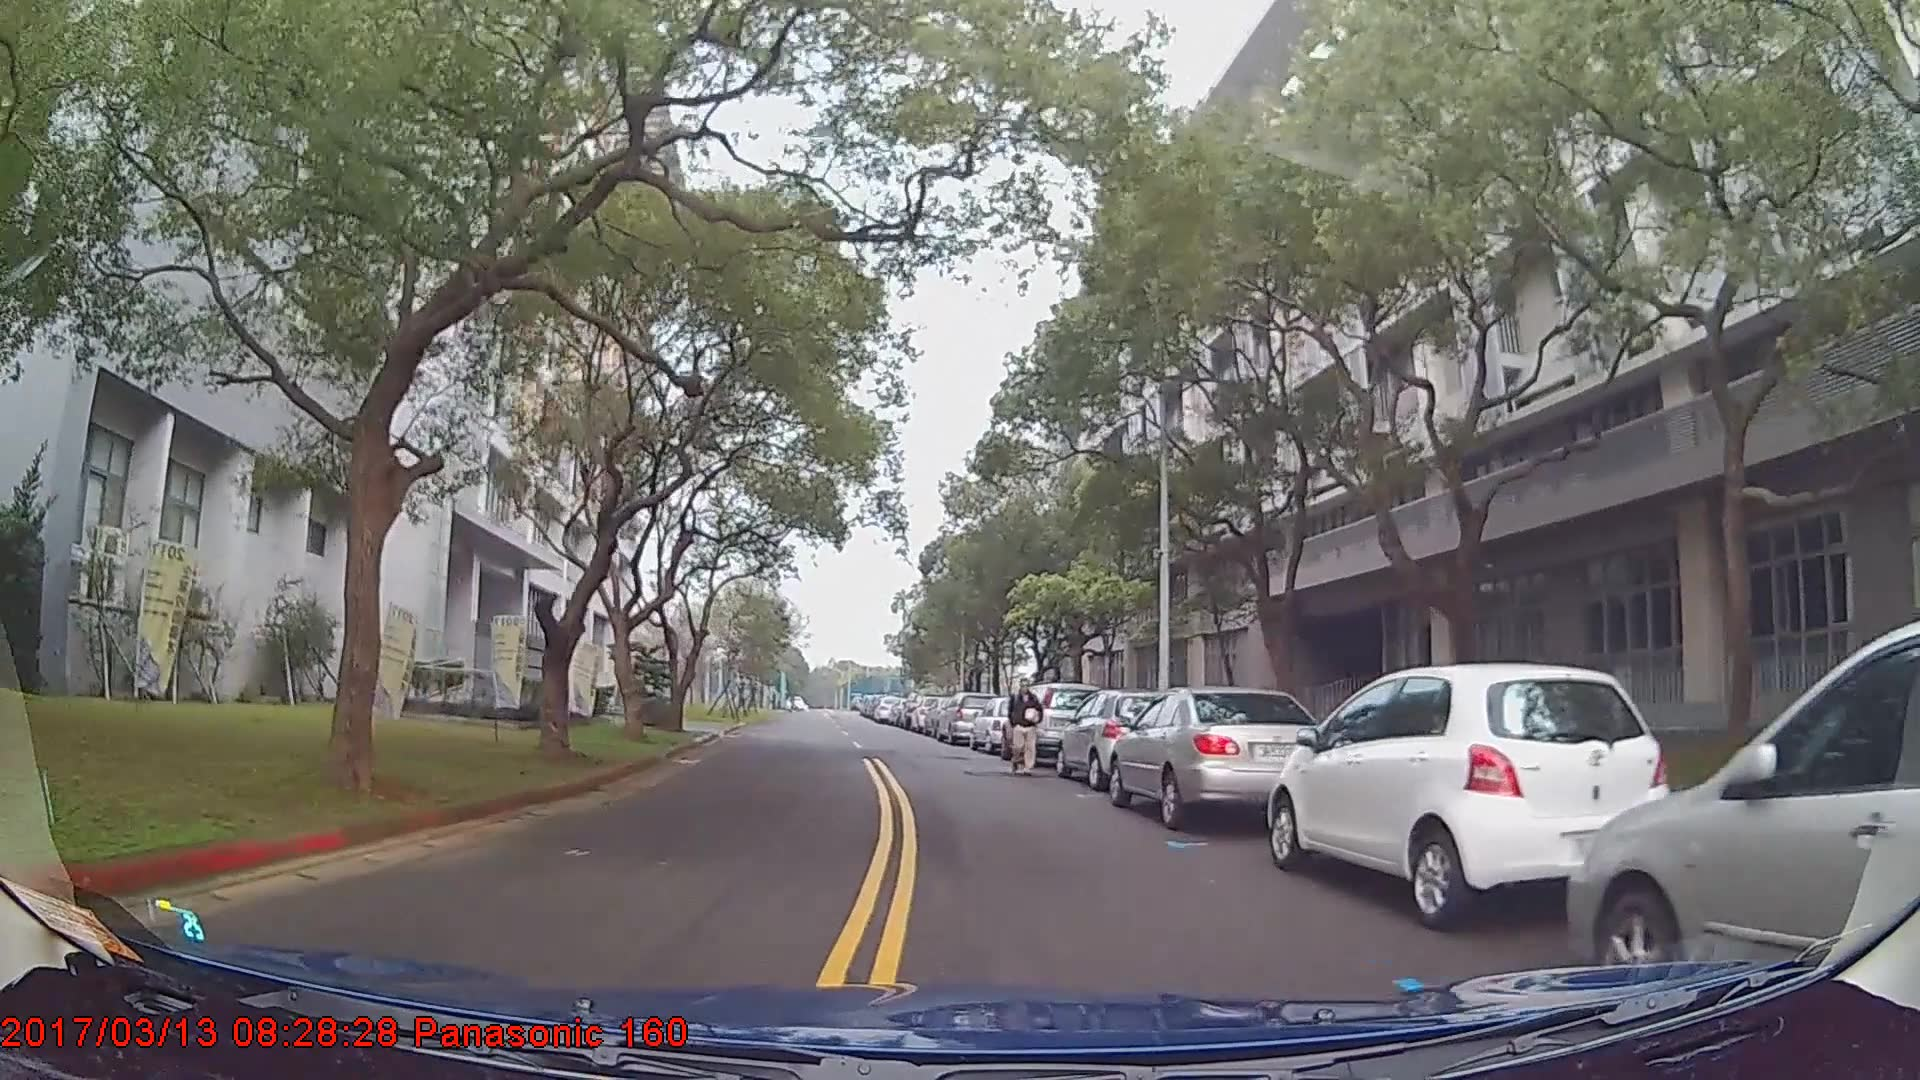pedestrian: (1009, 676, 1045, 777)
vehicle: (1564, 625, 1920, 1018), (1270, 659, 1678, 932), (1106, 684, 1330, 827), (1055, 686, 1187, 789), (1002, 681, 1104, 768), (968, 693, 1035, 755), (936, 691, 1000, 745)
